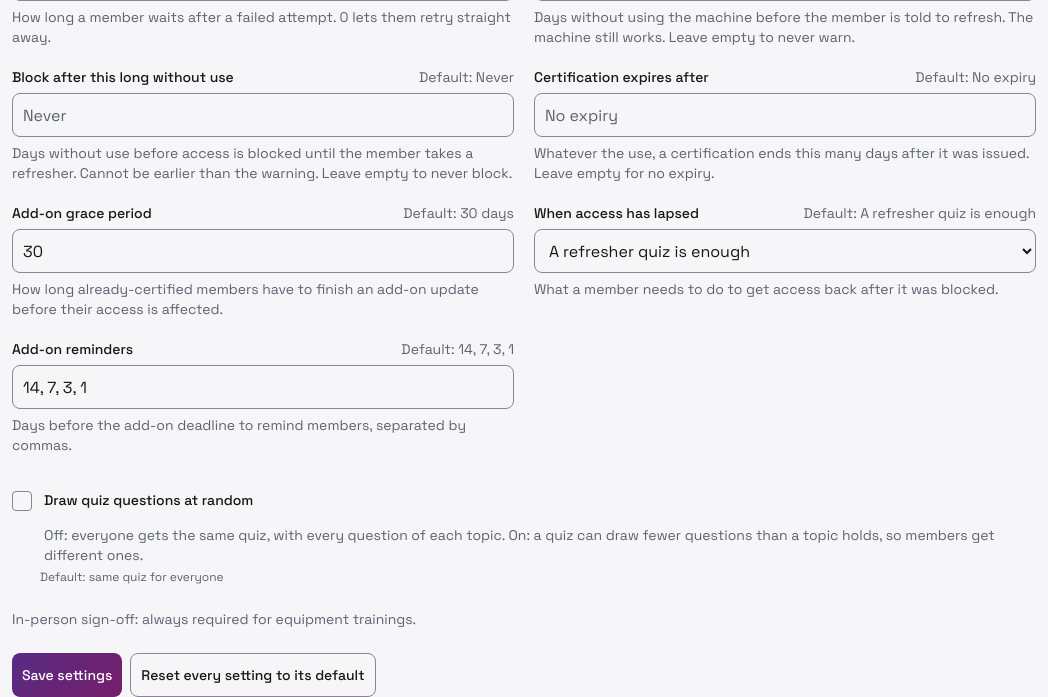
Test case: TrainingSettingsForm › shows a server problem that belongs to no field, and other failures
The image size is (1048, 697).
(page scrolled)
What coordinates should you click on to do the following:
click the button "Save settings"
I would click on:
 (67, 675)
Its box is [12, 653, 122, 696].
(page scrolled)
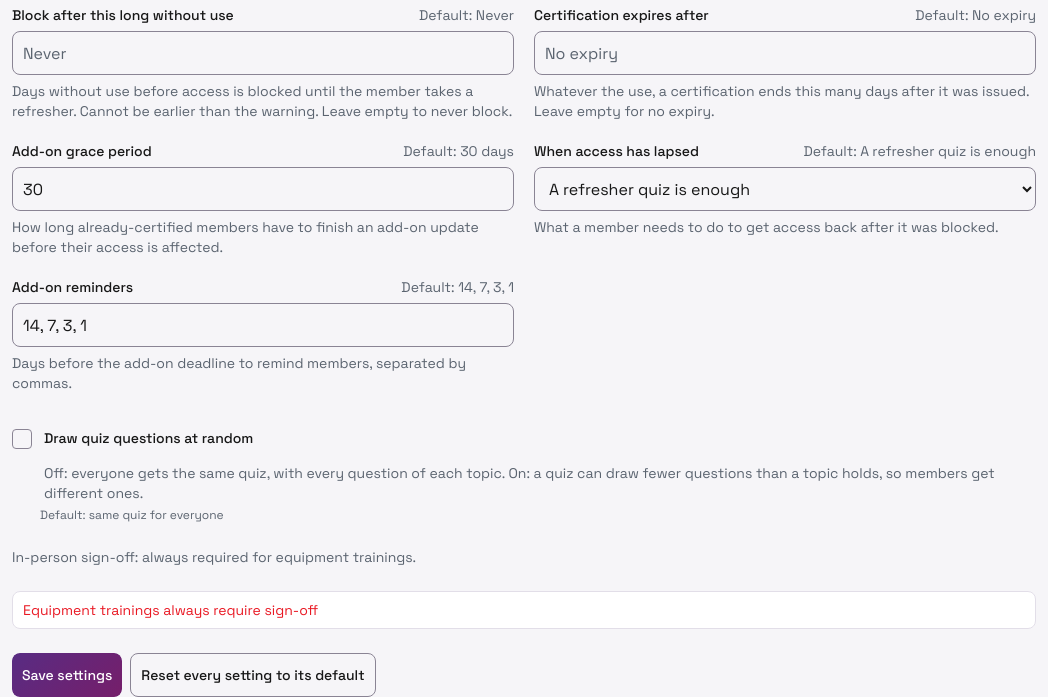
Check: the text "Equipment trainings always require sign-off" is shown, box [23, 601, 318, 619]
What coordinates should you click on to do the following:
click the button "Save settings"
I would click on:
 (67, 675)
Its box is [12, 653, 122, 696].
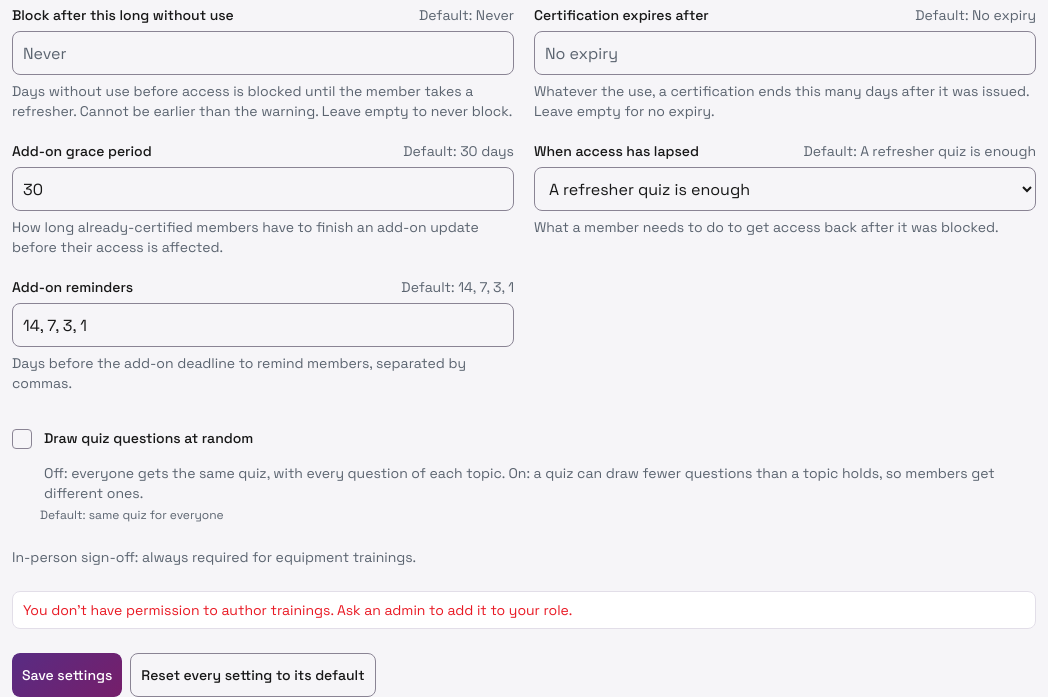
Check: the text "permission to author trainings" is shown, box [23, 601, 572, 619]
